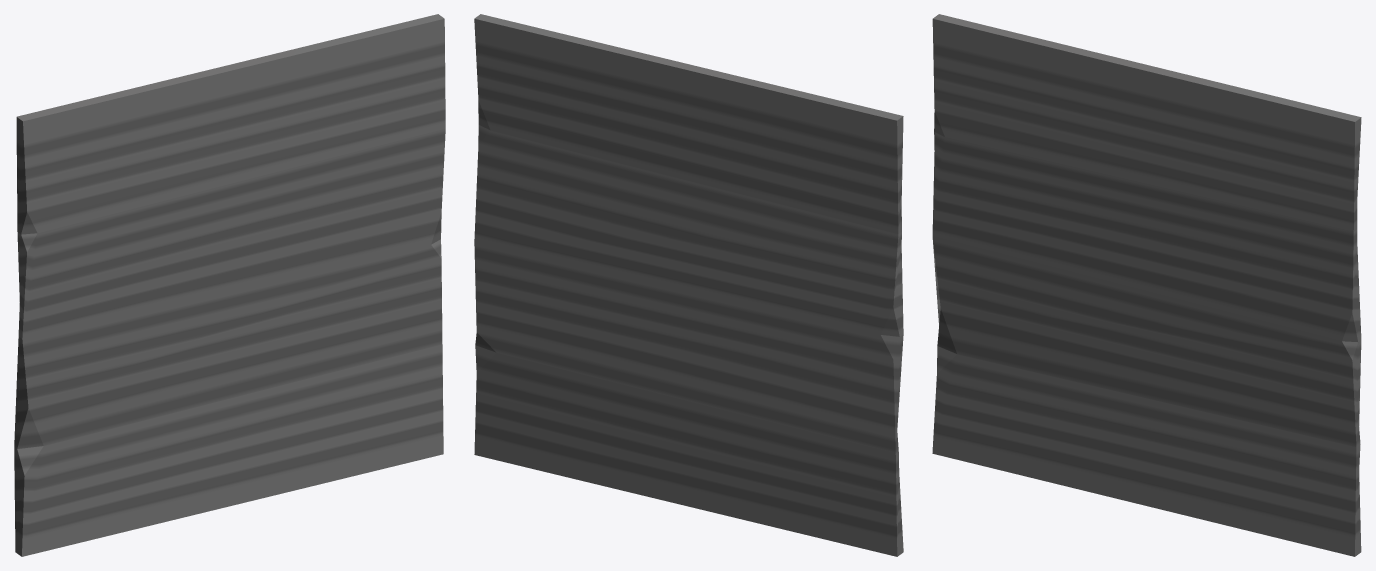
File: SM_Bld_GasStation_GarageDoor_01.fbx
3 renders of one model, left to right at view 1: azimuth 30°, elevation 25°; view 2: azimuth 150°, elevation 25°; view 3: azimuth 330°, elevation 25°, orthographic.
Parts seen in each view (by area): view 1: SM_Bld_GasStation_GarageDoor_01; view 2: SM_Bld_GasStation_GarageDoor_01; view 3: SM_Bld_GasStation_GarageDoor_01.
Part boxes in pixels (box(x1,y1,x2,y2)): SM_Bld_GasStation_GarageDoor_01: box(14, 14, 445, 556); SM_Bld_GasStation_GarageDoor_01: box(474, 14, 903, 556); SM_Bld_GasStation_GarageDoor_01: box(932, 14, 1361, 556).
Bounding box in the file's own units: 318 × 313 × 12.8.
